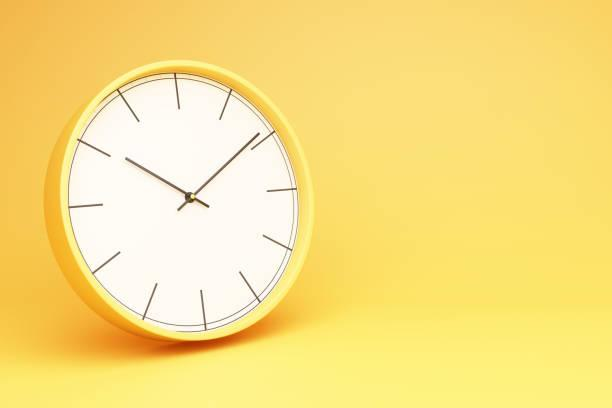clock: (52, 71, 310, 341)
